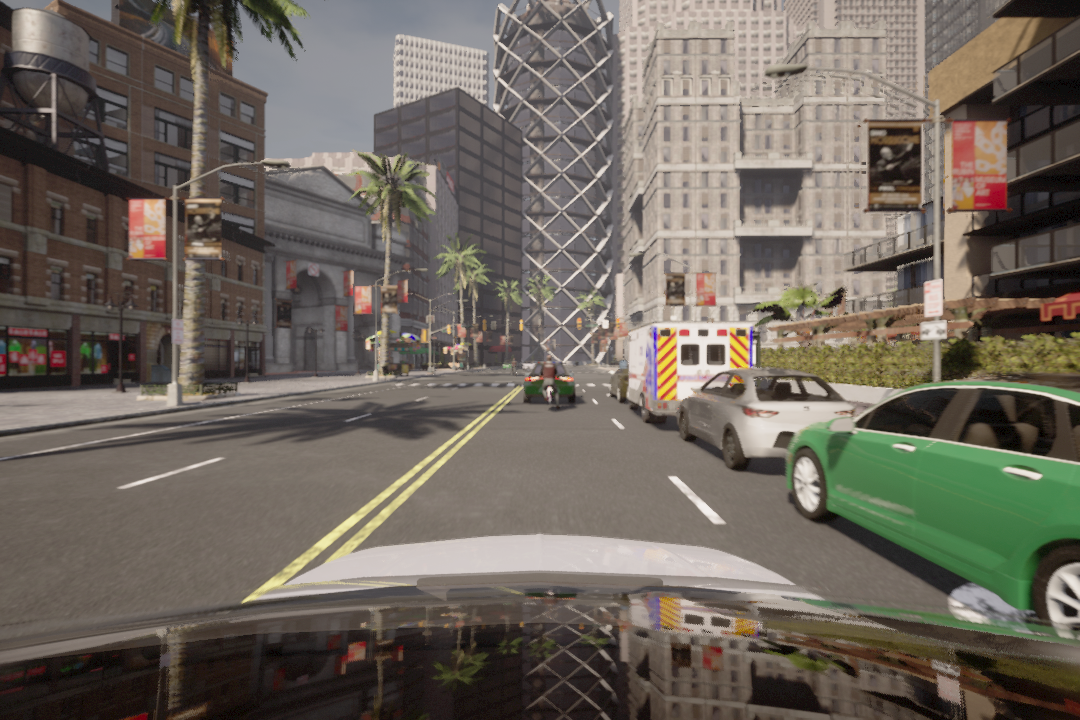walkside: (387, 381, 619, 389)
